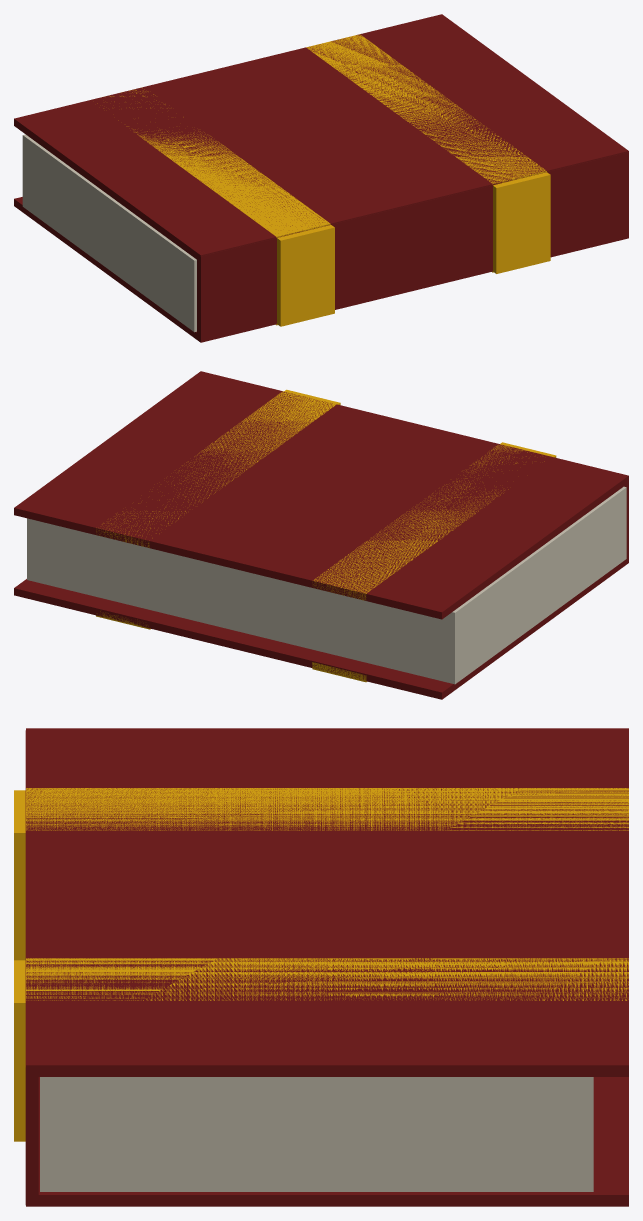
The model's file is Buch_vereinfacht.fbx.
3 views of the same model, one above another, from view 1: azimuth 30°, elevation 25°; view 2: azimuth 150°, elevation 25°; view 3: azimuth 270°, elevation 25° (orthographic). The views are drawn at different scales.
Parts seen in each view (by area): view 1: Ruecken, Band, Seiten; view 2: Ruecken, Seiten, Band; view 3: Ruecken, Seiten, Band.
Part boxes in pixels (x1,y1,x2,y2): Ruecken: (14, 14, 628, 342); Band: (97, 34, 550, 326); Seiten: (22, 134, 196, 332); Ruecken: (14, 371, 628, 699); Seiten: (27, 486, 626, 684); Band: (96, 389, 556, 682); Ruecken: (25, 728, 628, 1206); Seiten: (40, 1077, 593, 1191); Band: (14, 788, 628, 1141).
Size of the model in its own units: 290 by 56.94 by 222.
